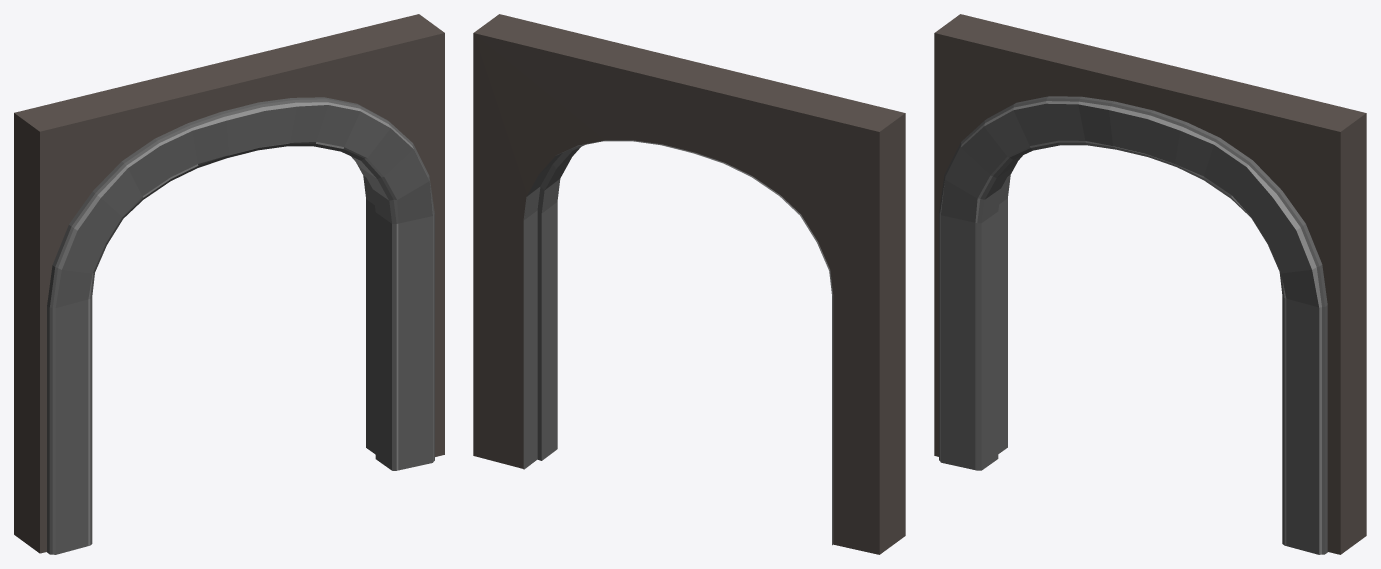
File: MCastle_ArchDoors_00.FBX
The picture shows the model from 3 angles, left to right: view 1: azimuth 30°, elevation 25°; view 2: azimuth 150°, elevation 25°; view 3: azimuth 330°, elevation 25°; orthographic projection.
Visible parts, largest first — view 1: MCastle_ArchDoors_00_Frame_LOD0; view 2: MCastle_ArchDoors_00_Frame_LOD0; view 3: MCastle_ArchDoors_00_Frame_LOD0.
Part boxes in pixels (box(x1,y1,x2,y2)): MCastle_ArchDoors_00_Frame_LOD0: box(14, 14, 444, 554); MCastle_ArchDoors_00_Frame_LOD0: box(473, 14, 905, 554); MCastle_ArchDoors_00_Frame_LOD0: box(934, 14, 1366, 554).
Size of what is drawn, in the model's own units: 4.52 by 4.51 by 0.6569.
